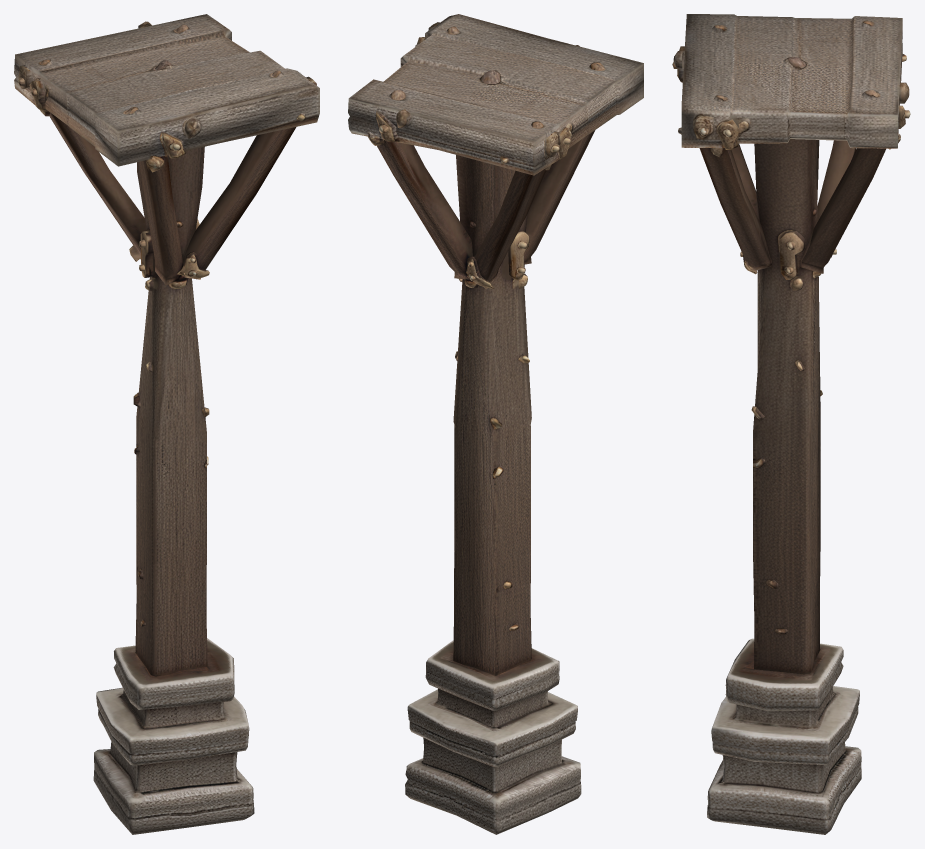
File: pilastro_legno.glb
3 renders of one model, left to right at view 1: azimuth 30°, elevation 25°; view 2: azimuth 150°, elevation 25°; view 3: azimuth 270°, elevation 25°, orthographic.
Parts seen in each view (by area): view 1: pilastro_legno; view 2: pilastro_legno; view 3: pilastro_legno.
Boxes of the visible parts, x1,y1,x2,y2 form: pilastro_legno: (14,14,319,834); pilastro_legno: (348,14,643,834); pilastro_legno: (672,14,910,834).
Bounding box in the file's own units: 0.3052 × 0.9995 × 0.2896.
Materials: 1 (1 with a texture image).
